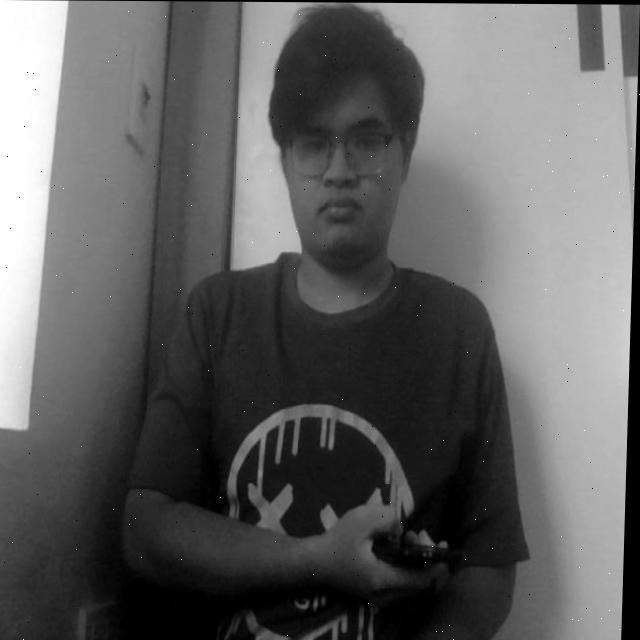phone: (367, 511, 468, 599)
